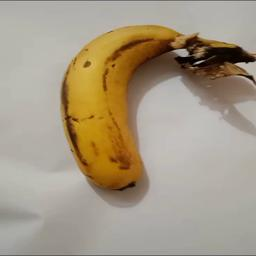Banana Semifresh: (58, 13, 256, 201)
